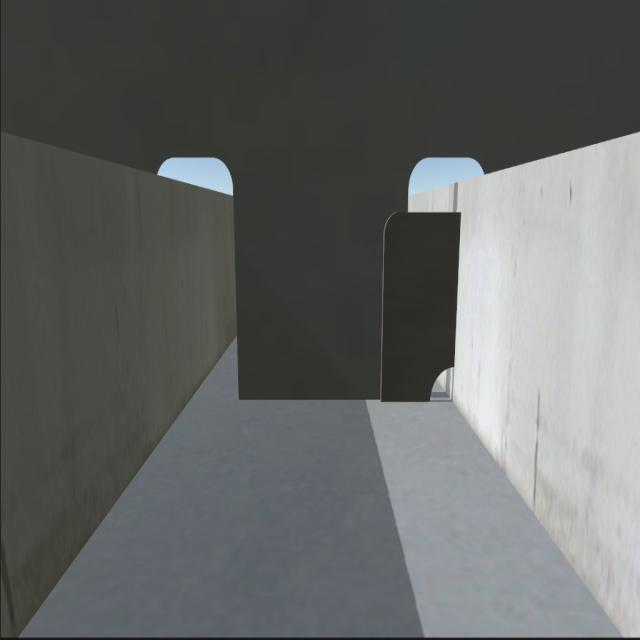fillet_hole: (427, 361, 457, 403)
fillet_yong_jeop_jang: (243, 396, 431, 408)
longi_yong_jeop_jang: (454, 213, 462, 361)
plate_CP05: (379, 214, 458, 396)
